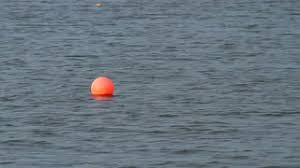buoy: (91, 77, 114, 97)
